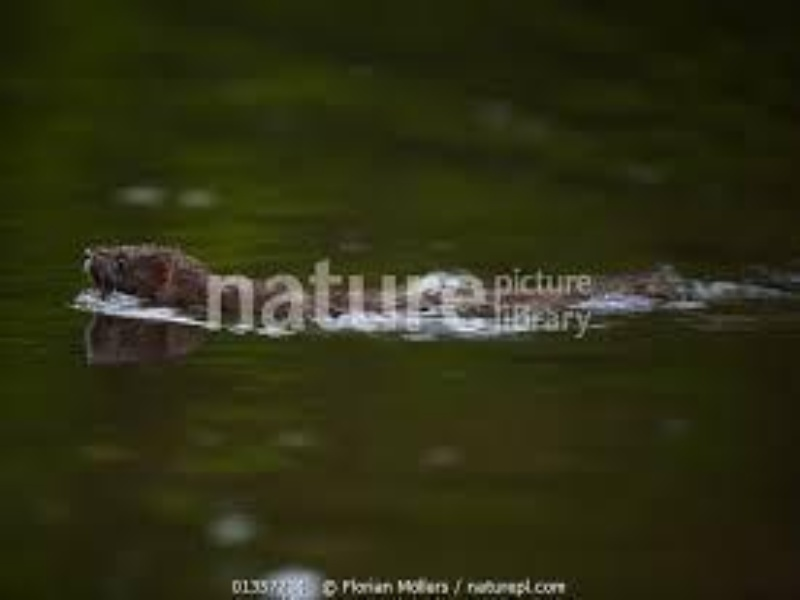minkish: (79, 239, 736, 337)
